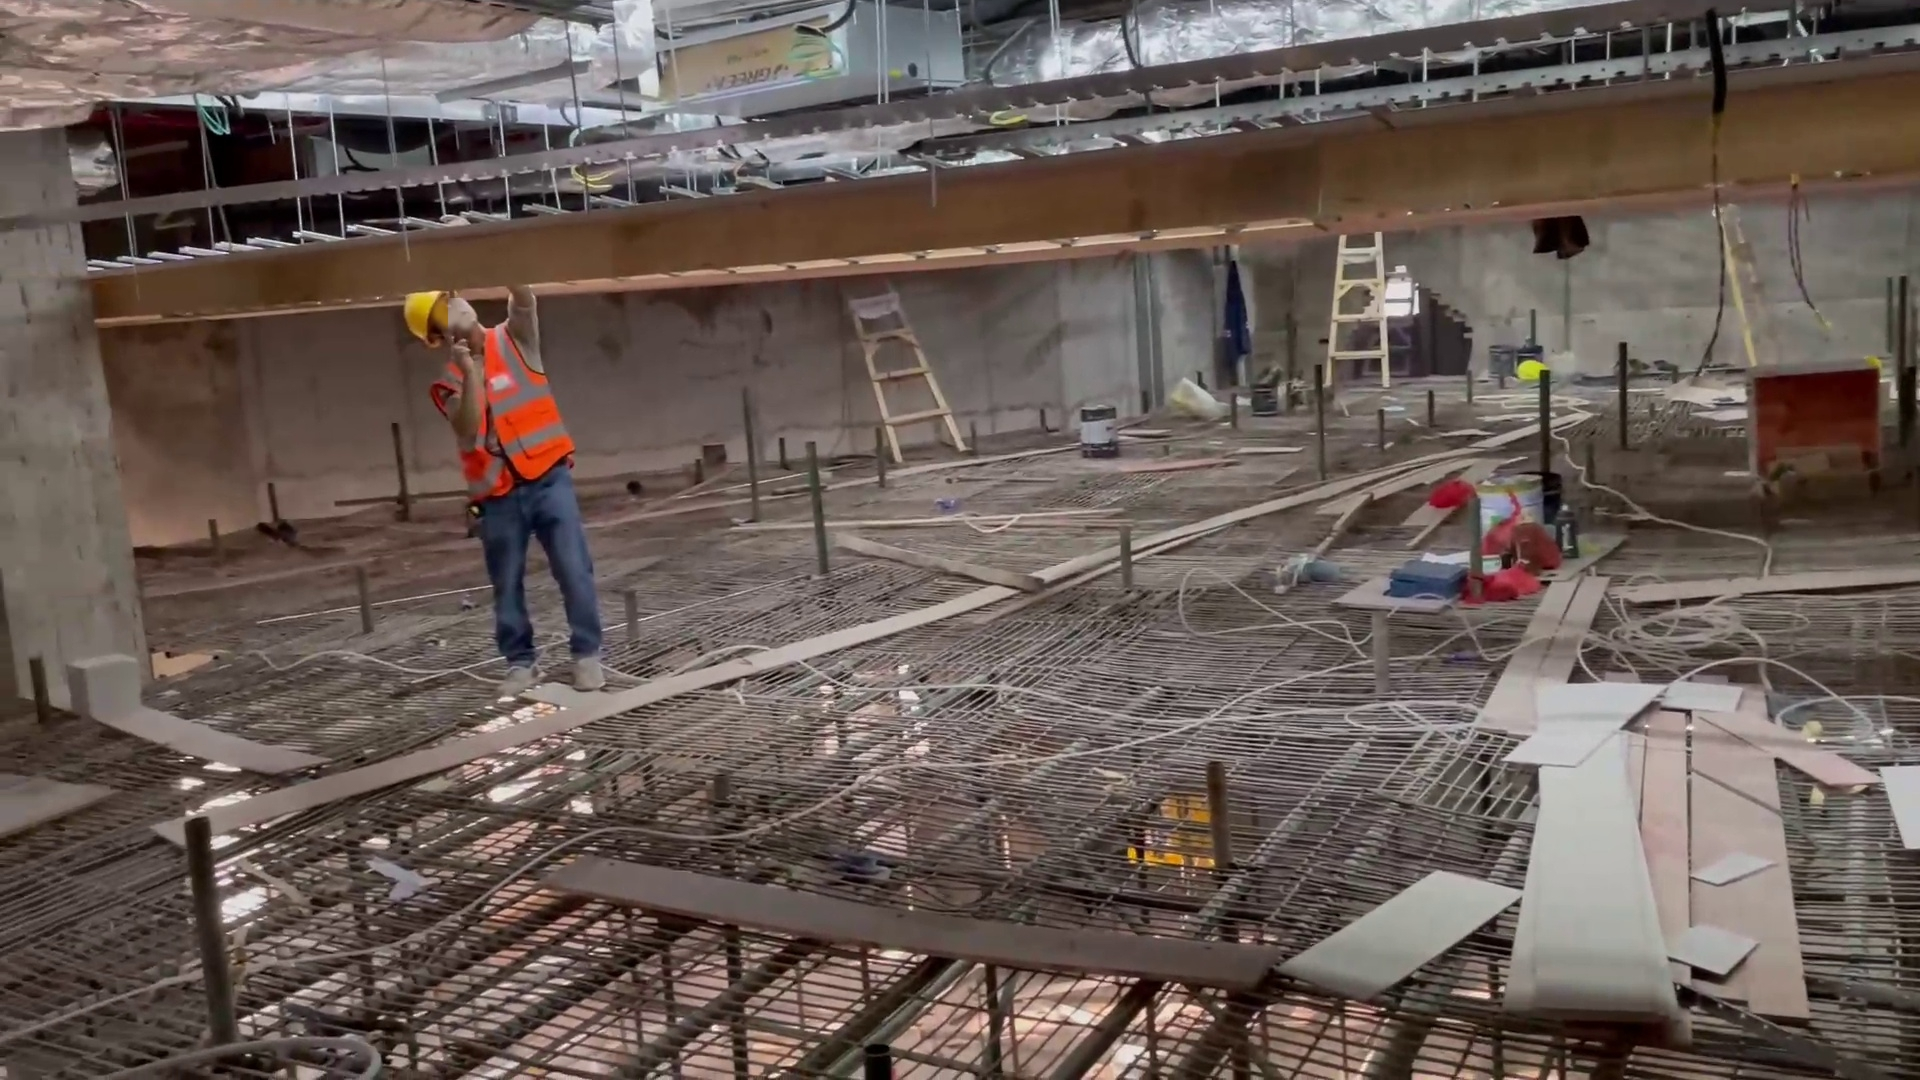helmet: (397, 286, 447, 349), (1509, 362, 1546, 386)
person: (397, 282, 614, 691)
vest: (433, 338, 578, 495)
